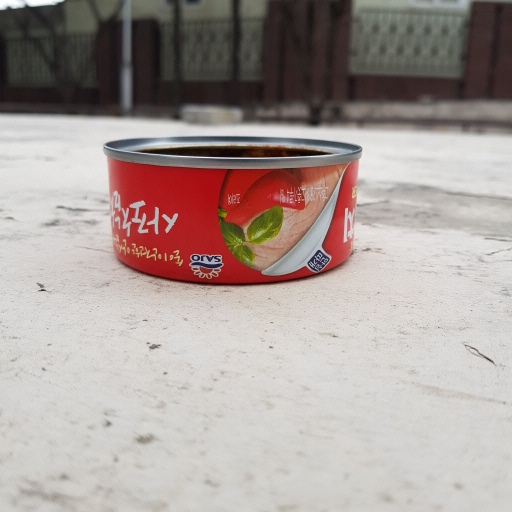Metal_1: (101, 130, 364, 289)
